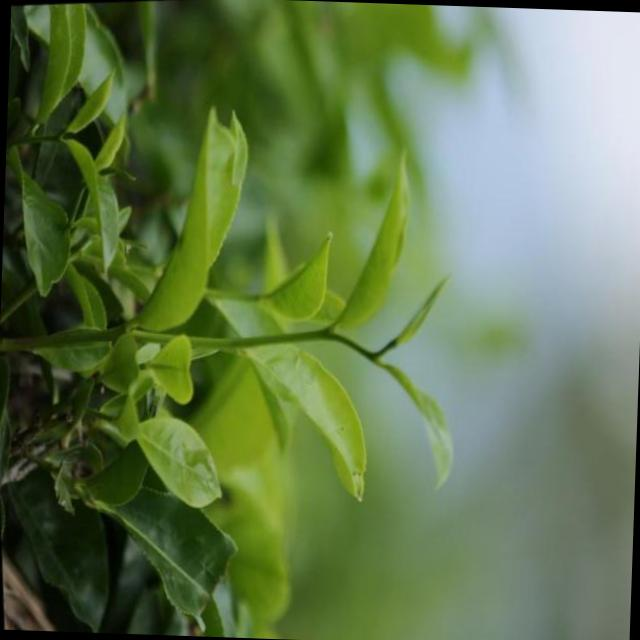Stem: (322, 327, 334, 339)
